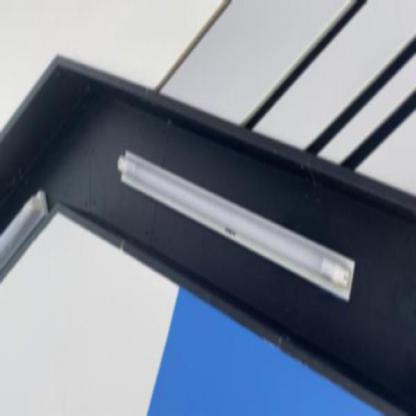light_off: (112, 131, 359, 315), (0, 162, 54, 299)
